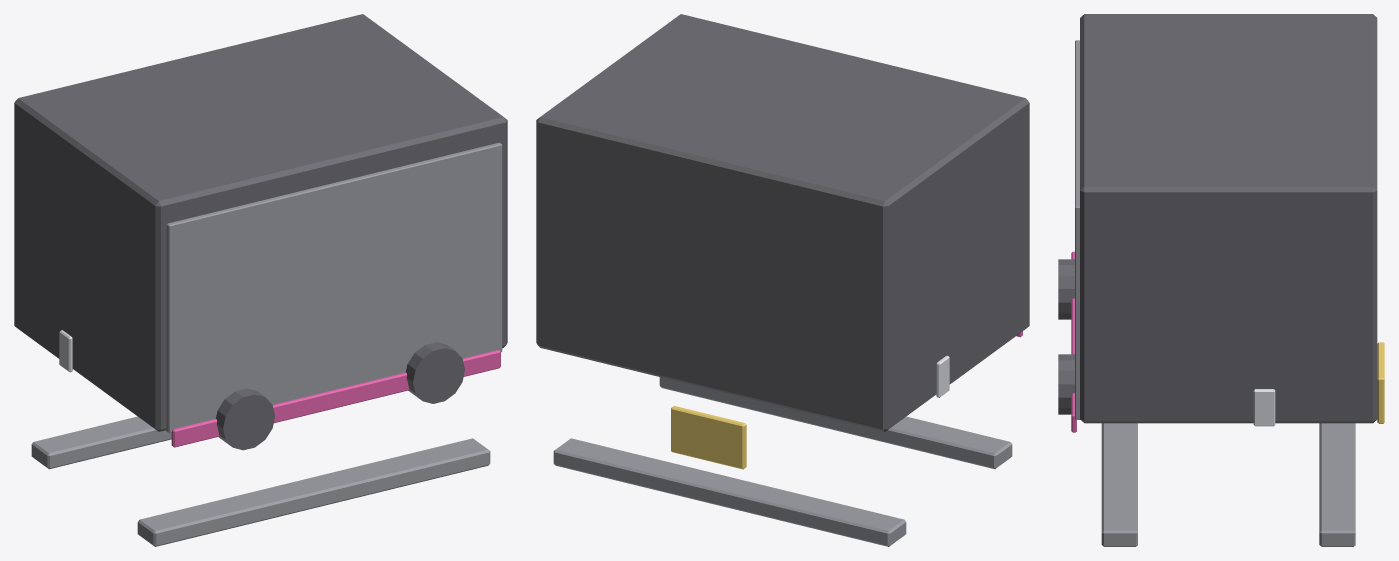
The model's file is nightclub-and-dj-booth-speaker-stack-sub-cabinet-77151eb8.glb.
3 renders of one model, left to right at view 1: azimuth 30°, elevation 25°; view 2: azimuth 150°, elevation 25°; view 3: azimuth 270°, elevation 25°, orthographic. The views are drawn at different scales.
Parts seen in each view (by area): view 1: speaker-stack-sub-cabinet; view 2: speaker-stack-sub-cabinet; view 3: speaker-stack-sub-cabinet.
Boxes of the visible parts, x1=… form: speaker-stack-sub-cabinet: x1=14, y1=14, x2=507, y2=546; speaker-stack-sub-cabinet: x1=536, y1=14, x2=1029, y2=546; speaker-stack-sub-cabinet: x1=1058, y1=14, x2=1384, y2=546.
Size of the model in its own units: 1.17 by 1.11 by 0.9.
